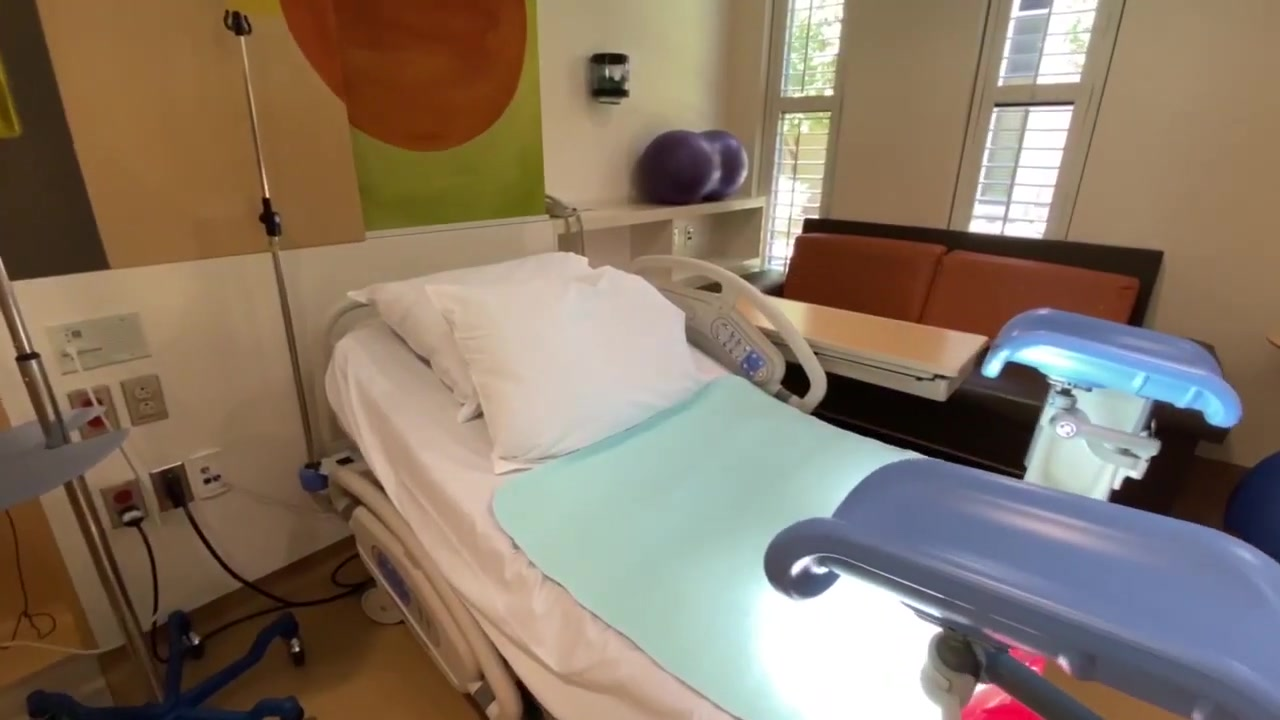bedrail: (328, 461, 524, 720), (620, 252, 827, 416)
hospital_bed: (323, 246, 994, 720)
iv_pole: (1, 222, 184, 720), (220, 6, 323, 465)
overbed_table: (699, 291, 992, 404)
sofa: (774, 216, 1159, 465)
